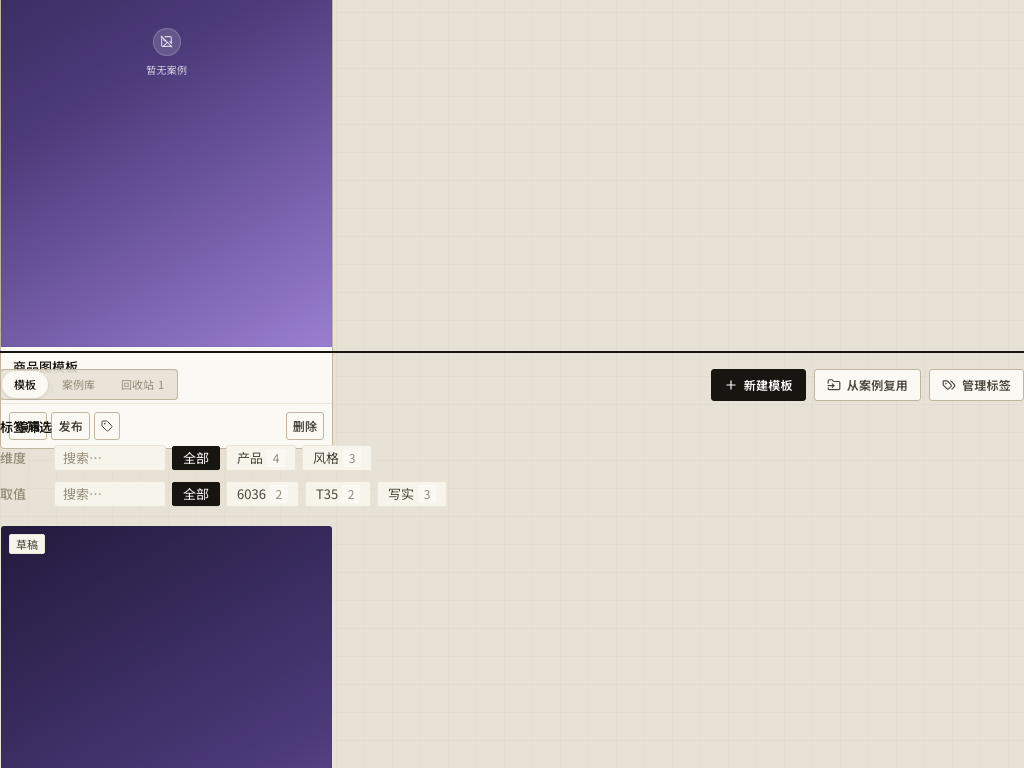
Scenario: 模板封装 · 两级标签 › 管理标签入口受 template_pack:create 控制
(page scrolled)
Click the button "管理标签".
click(976, 384)  # box [929, 368, 1023, 400]
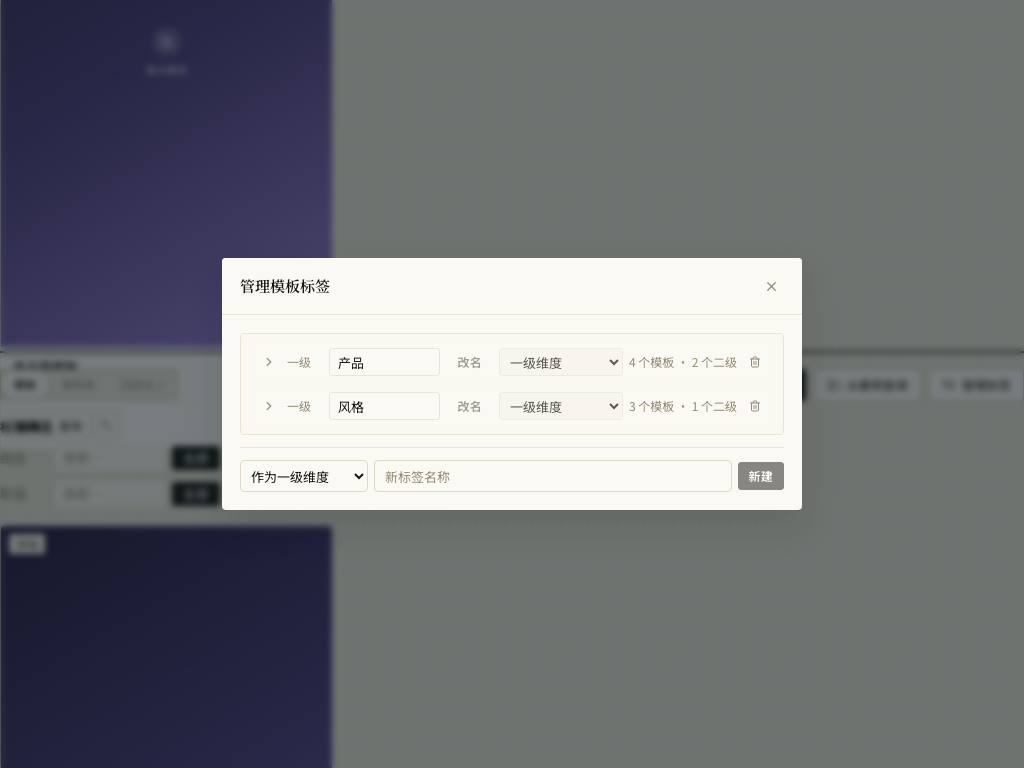
Expected: the dialog "管理模板标签" is shown, [222, 258, 802, 510]
